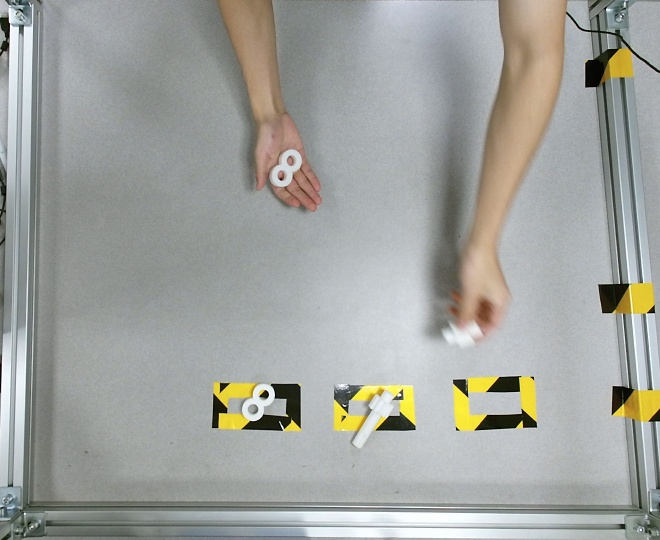stage_1: (267, 149, 302, 186)
